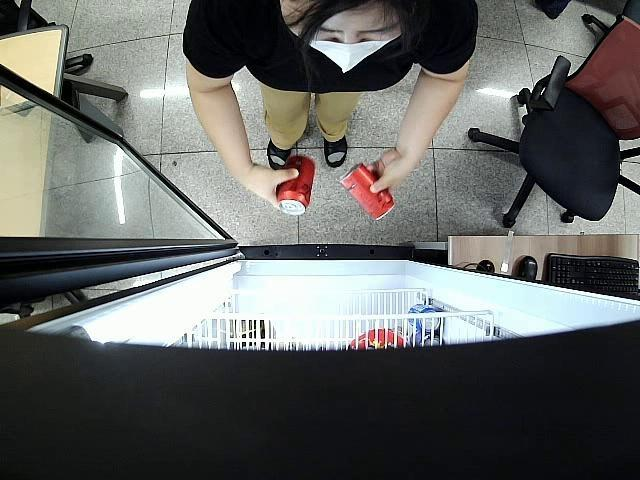11_cocaColaZero: (340, 164, 393, 222), (276, 154, 316, 214)
